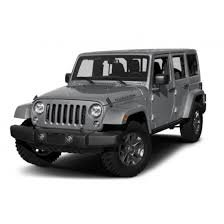mobil: (15, 47, 205, 173)
